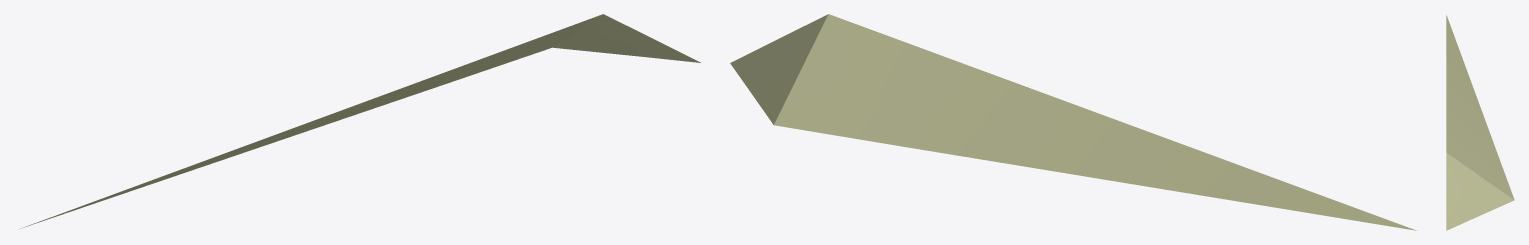
3 views of the same model, side by side, from view 1: azimuth 30°, elevation 25°; view 2: azimuth 150°, elevation 25°; view 3: azimuth 270°, elevation 25° (orthographic). The views are drawn at different scales.
Size of the model in its own units: 0.0231 by 0.00235 by 0.00308.
Materials: 1 (1 with a texture image).
